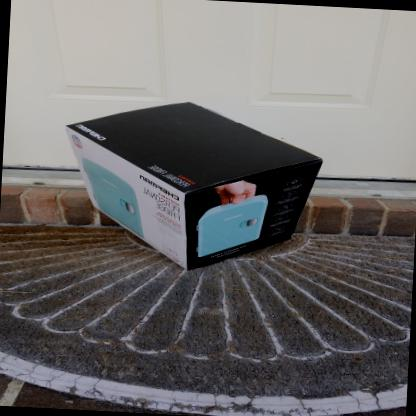box: (64, 99, 324, 270)
